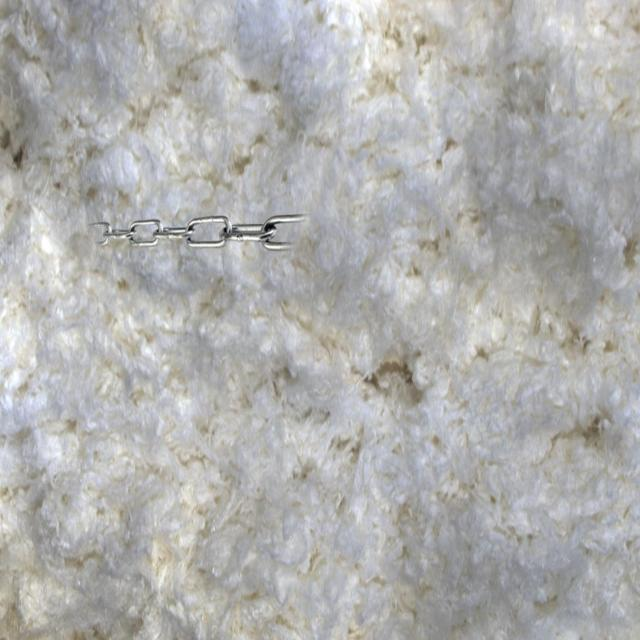dust: (71, 143, 327, 366)
